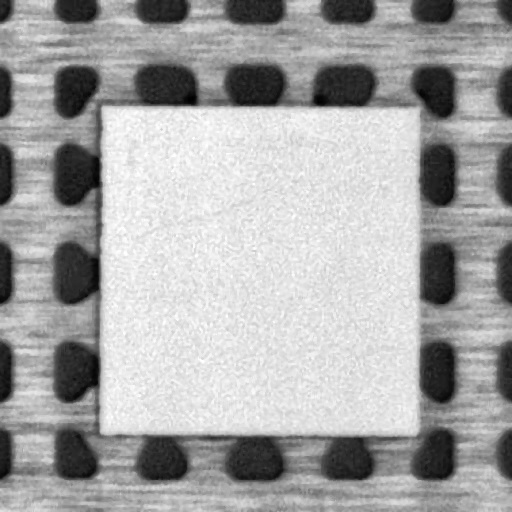DIE_CRACK: (132, 188, 282, 232)
